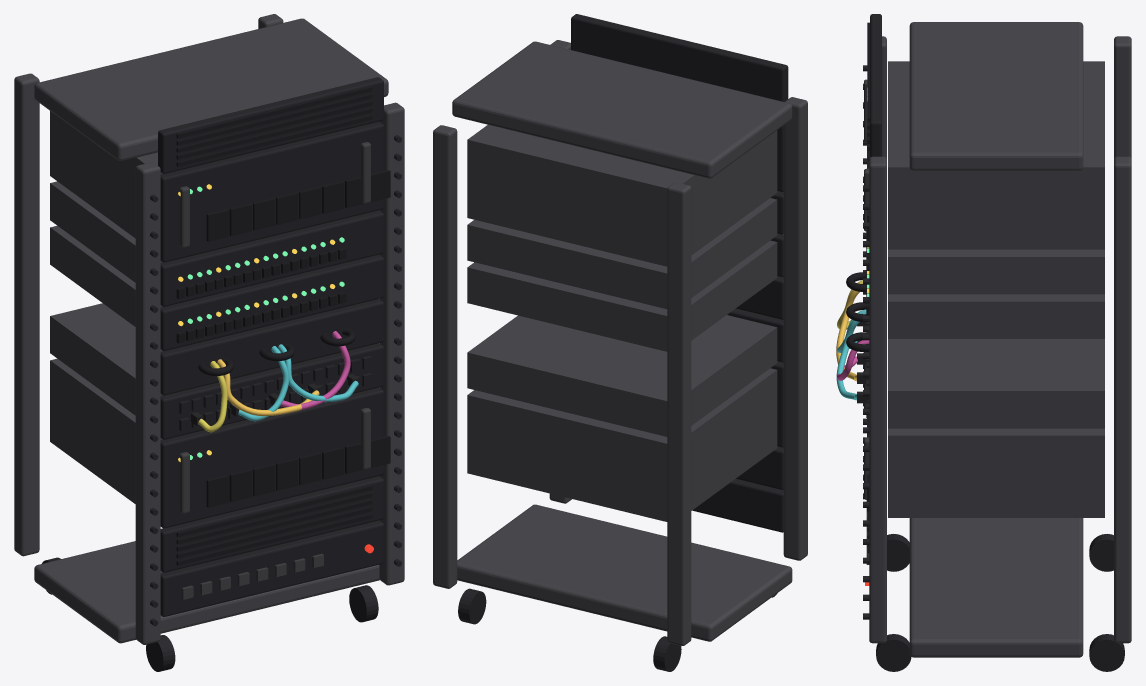
The model's file is rack.glb.
3 renders of one model, left to right at view 1: azimuth 30°, elevation 25°; view 2: azimuth 150°, elevation 25°; view 3: azimuth 270°, elevation 25°, orthographic. The views are drawn at different scales.
Parts seen in each view (by area): view 1: Cube.004, Cube.108, Cube.021, Cube.002, Cube, Cube.005, Cube.001, Cube.006, Cube.067, Cube.068, Cube.088, Cube.022 (+40 smaller); view 2: Cube.004, Cube.109, Cube.022, Cube.005, Cube.034, Cube.069, Cube.089, Cube.002, Cube.003, Cube, Cube.120, Cube.006 (+6 smaller); view 3: Cube.004, Cube.005, Cube.109, Cube.022, Cube.034, Cube.089, Cube.069, Cube.001, Cube.003, Cube.002, Cube.120, Cylinder.051 (+6 smaller).
Part boxes in pixels (left/top/right/bottom): Cube.004: left=34, top=18, right=388, bottom=161; Cube.108: left=160, top=121, right=383, bottom=262; Cube.021: left=160, top=387, right=383, bottom=528; Cube.002: left=14, top=73, right=39, bottom=556; Cube: left=135, top=162, right=160, bottom=644; Cube.005: left=34, top=541, right=379, bottom=643; Cube.001: left=379, top=102, right=404, bottom=585; Cube.006: left=160, top=520, right=383, bottom=616; Cube.067: left=160, top=299, right=383, bottom=395; Cube.068: left=160, top=254, right=383, bottom=351; Cube.088: left=160, top=210, right=383, bottom=306; Cube.022: left=50, top=358, right=162, bottom=503; Cube.004: left=452, top=41, right=792, bottom=178; Cube.109: left=467, top=125, right=777, bottom=266; Cube.022: left=467, top=368, right=777, bottom=521; Cube.005: left=457, top=504, right=792, bottom=641; Cube.034: left=467, top=315, right=777, bottom=436; Cube.069: left=467, top=240, right=777, bottom=351; Cube.089: left=467, top=198, right=777, bottom=309; Cube.002: left=667, top=182, right=691, bottom=645; Cube.003: left=433, top=125, right=457, bottom=588; Cube: left=783, top=97, right=807, bottom=560; Cube.120: left=571, top=14, right=788, bottom=101; Cube.006: left=692, top=478, right=783, bottom=532; Cube.004: left=909, top=22, right=1083, bottom=170; Cube.005: left=909, top=518, right=1083, bottom=657; Cube.109: left=888, top=61, right=1104, bottom=249; Cube.022: left=888, top=428, right=1104, bottom=517; Cube.034: left=888, top=339, right=1104, bottom=428; Cube.089: left=888, top=249, right=1104, bottom=294; Cube.069: left=888, top=294, right=1104, bottom=338; Cube.001: left=869, top=156, right=886, bottom=643; Cube.003: left=1114, top=156, right=1131, bottom=643; Cube.002: left=1114, top=36, right=1131, bottom=158; Cube.120: left=870, top=14, right=881, bottom=157; Cylinder.051: left=1089, top=634, right=1124, bottom=671.
Size of the model in its own units: 0.8 by 1.54 by 0.7484.
